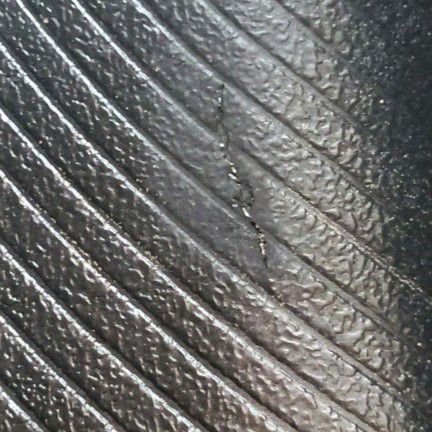CBU: (208, 78, 281, 280)
